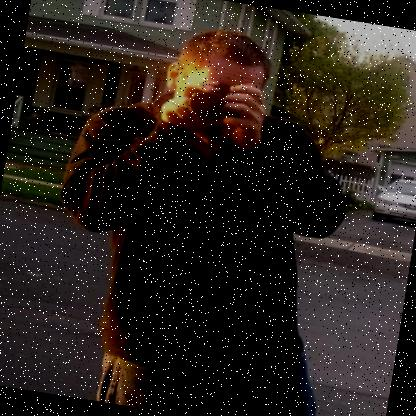Car: (372, 166, 415, 219)
